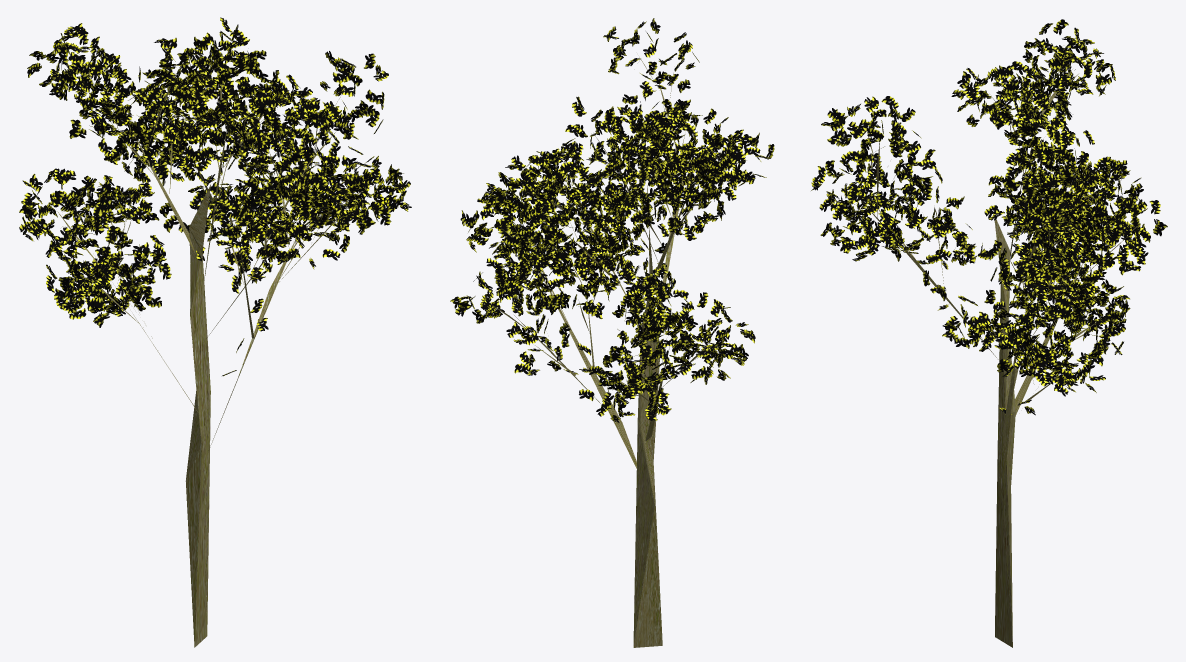
The model's file is cottonwood_river_v03_LOD2.fbx.
3 renders of one model, left to right at view 1: azimuth 30°, elevation 25°; view 2: azimuth 150°, elevation 25°; view 3: azimuth 270°, elevation 25°, orthographic. The views are drawn at different scales.
Parts seen in each view (by area): view 1: cottonwood_river_v03_LOD2; view 2: cottonwood_river_v03_LOD2; view 3: cottonwood_river_v03_LOD2.
Boxes of the visible parts, <box> form: cottonwood_river_v03_LOD2: <box>19,17,411,647</box>; cottonwood_river_v03_LOD2: <box>450,18,774,647</box>; cottonwood_river_v03_LOD2: <box>811,19,1167,647</box>.
Size of the model in its own units: 2118 by 2124 by 3744.
Materials: 2 (2 with a texture image).
